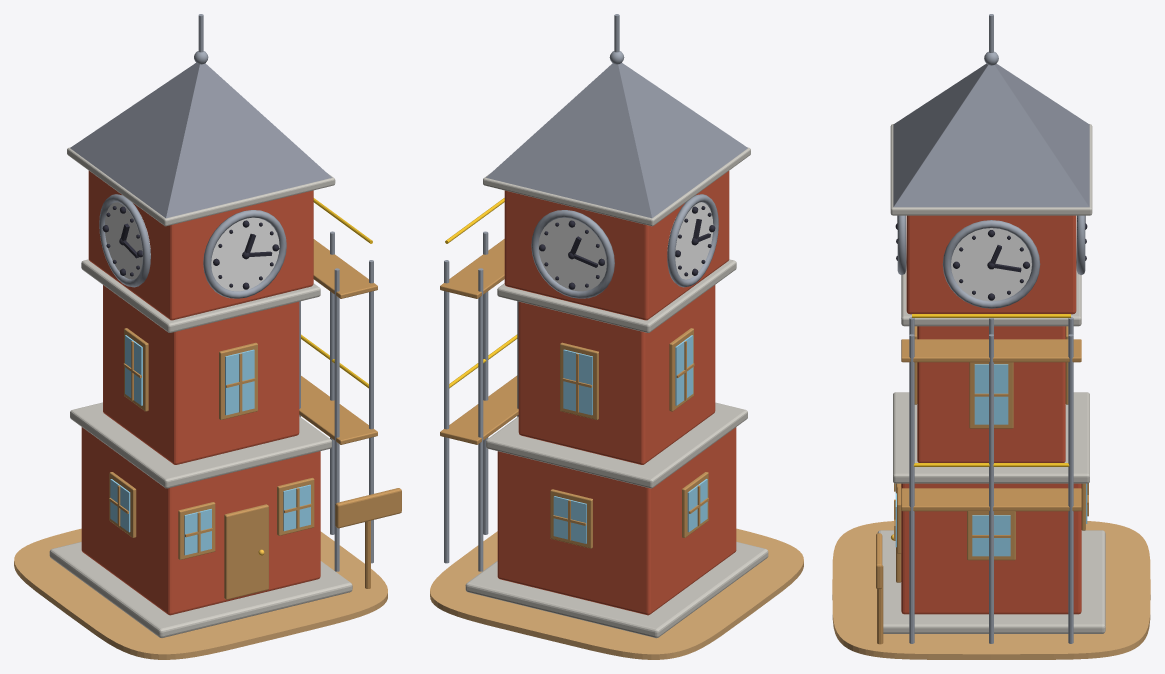
Rendered from clock-tower-stage-3.28ff94ca.glb.
The picture shows the model from 3 angles, left to right: view 1: azimuth 30°, elevation 25°; view 2: azimuth 150°, elevation 25°; view 3: azimuth 270°, elevation 25°; orthographic projection. The views are drawn at different scales.
Parts seen in each view (by area): view 1: ClockTower_Stage3__T_brickwall, ClockTower_Stage3__T_roofgray, ClockTower_Stage3__T_concrete, ClockTower_Stage3__T_wood, ClockTower_Stage3__T_dirt, ClockTower_Stage3__T_steel, ClockTower_Stage3__T_white, ClockTower_Stage3__T_glass, ClockTower_Stage3__T_dark, ClockTower_Stage3__T_yellow; view 2: ClockTower_Stage3__T_brickwall, ClockTower_Stage3__T_roofgray, ClockTower_Stage3__T_concrete, ClockTower_Stage3__T_dirt, ClockTower_Stage3__T_steel, ClockTower_Stage3__T_wood, ClockTower_Stage3__T_white, ClockTower_Stage3__T_glass, ClockTower_Stage3__T_dark, ClockTower_Stage3__T_yellow; view 3: ClockTower_Stage3__T_brickwall, ClockTower_Stage3__T_roofgray, ClockTower_Stage3__T_concrete, ClockTower_Stage3__T_dirt, ClockTower_Stage3__T_wood, ClockTower_Stage3__T_steel, ClockTower_Stage3__T_white, ClockTower_Stage3__T_glass, ClockTower_Stage3__T_yellow, ClockTower_Stage3__T_dark.
Part boxes in pixels (x1,y1,x2,y2): ClockTower_Stage3__T_brickwall: (81,171,320,615); ClockTower_Stage3__T_roofgray: (70,63,331,218); ClockTower_Stage3__T_concrete: (49,147,352,637); ClockTower_Stage3__T_wood: (109,239,401,599); ClockTower_Stage3__T_dirt: (14,528,387,659); ClockTower_Stage3__T_steel: (99,14,373,571); ClockTower_Stage3__T_white: (105,202,279,291); ClockTower_Stage3__T_glass: (110,335,310,555); ClockTower_Stage3__T_dark: (102,206,279,289); ClockTower_Stage3__T_yellow: (301,198,372,388); ClockTower_Stage3__T_brickwall: (497,171,736,615); ClockTower_Stage3__T_roofgray: (486,63,747,218); ClockTower_Stage3__T_concrete: (465,147,768,638); ClockTower_Stage3__T_dirt: (430,528,803,659); ClockTower_Stage3__T_steel: (444,14,718,571); ClockTower_Stage3__T_wood: (440,239,708,548); ClockTower_Stage3__T_white: (538,202,713,291); ClockTower_Stage3__T_glass: (553,335,707,543); ClockTower_Stage3__T_dark: (539,206,715,289); ClockTower_Stage3__T_yellow: (445,198,517,388); ClockTower_Stage3__T_brickwall: (901,215,1081,614); ClockTower_Stage3__T_roofgray: (893,63,1089,207); ClockTower_Stage3__T_concrete: (877,124,1105,633); ClockTower_Stage3__T_dirt: (832,521,1150,659); ClockTower_Stage3__T_wood: (876,326,1088,644); ClockTower_Stage3__T_steel: (897,14,1085,643); ClockTower_Stage3__T_white: (906,215,1076,301); ClockTower_Stage3__T_glass: (895,364,1087,556); ClockTower_Stage3__T_yellow: (912,314,1070,466); ClockTower_Stage3__T_dark: (895,216,1087,300).
Size of the model in its own units: 4.98 by 9.62 by 4.8.
